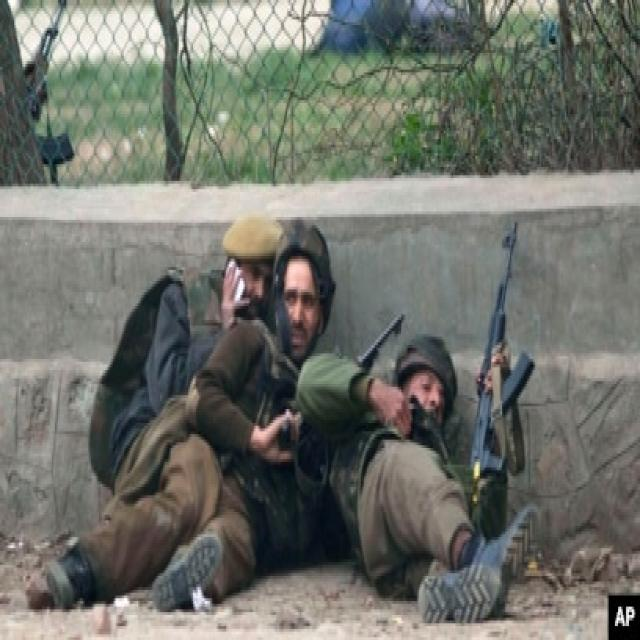Militant: (311, 221, 534, 633), (160, 174, 350, 628), (101, 204, 281, 573)
